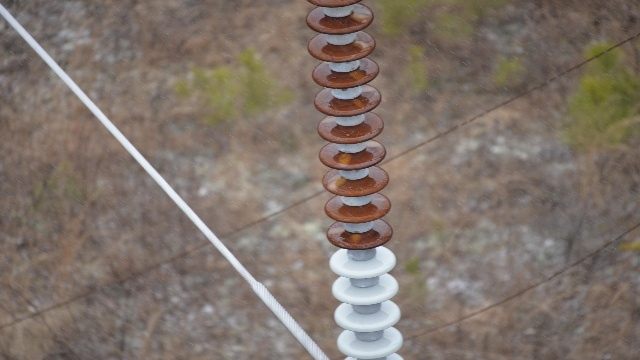insulator_unspecified: (305, 0, 411, 359)
pollution_flashover_local: (329, 225, 366, 243), (349, 5, 373, 25), (323, 173, 347, 190), (354, 37, 376, 52), (338, 150, 351, 166), (360, 139, 382, 148), (348, 70, 364, 81), (351, 96, 365, 107)
